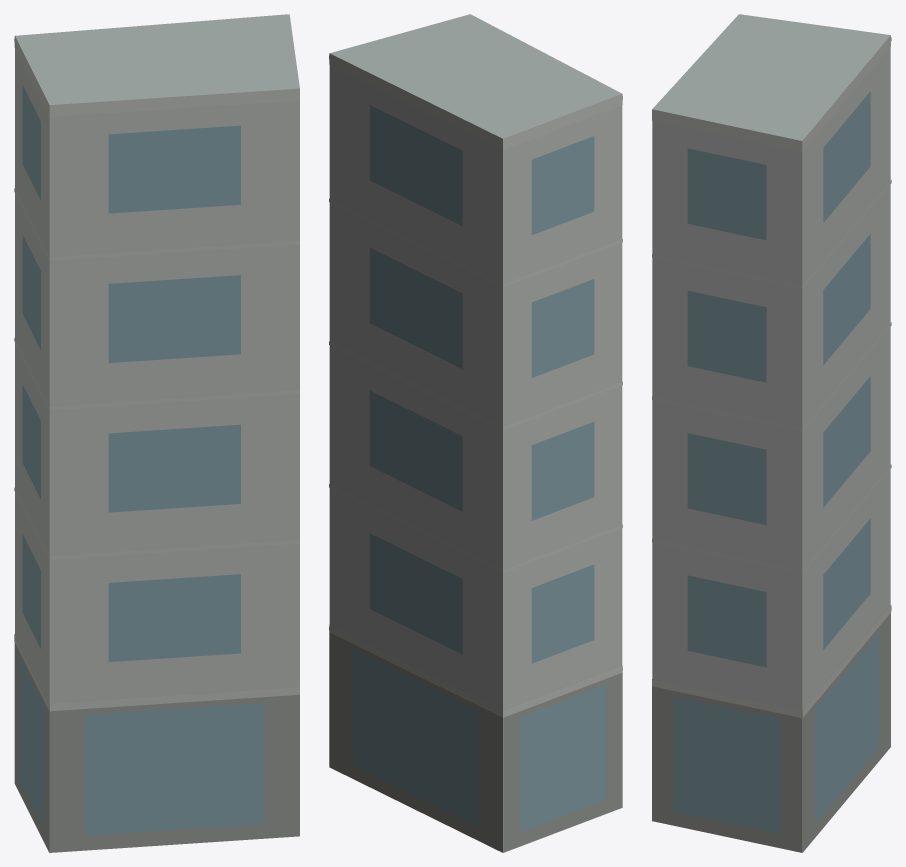
File: survey-upis-32708601.glb
3 renders of one model, left to right at view 1: azimuth 30°, elevation 25°; view 2: azimuth 150°, elevation 25°; view 3: azimuth 270°, elevation 25°, orthographic. The views are drawn at different scales.
Parts seen in each view (by area): view 1: survey-upis-32708601.tmp; view 2: survey-upis-32708601.tmp; view 3: survey-upis-32708601.tmp.
Part boxes in pixels (<box>): survey-upis-32708601.tmp: <box>14,14,299,852</box>; survey-upis-32708601.tmp: <box>329,14,622,852</box>; survey-upis-32708601.tmp: <box>652,14,891,852</box>.
Bounding box in the file's own units: 5.86 × 15.25 × 4.66.
